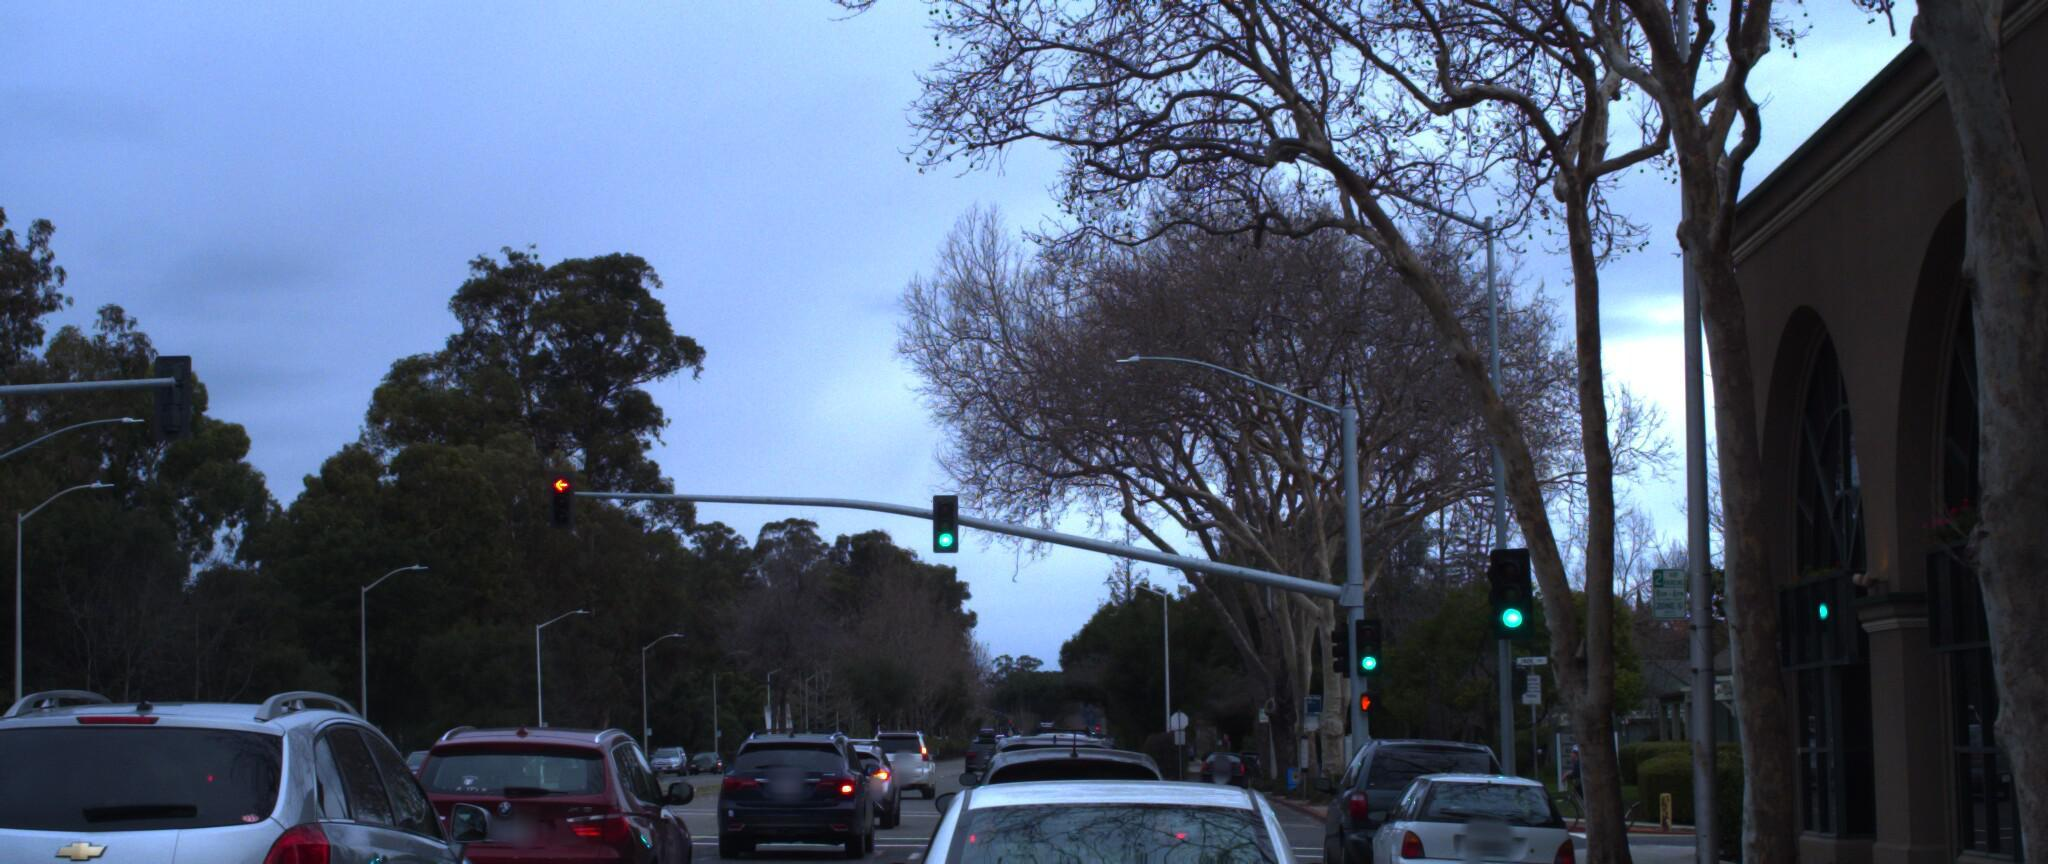car: (0, 653, 532, 864), (859, 747, 1384, 864), (371, 698, 716, 864), (914, 722, 1202, 864), (1302, 714, 1526, 864), (1341, 750, 1590, 864), (703, 713, 883, 852), (0, 737, 148, 864), (857, 720, 980, 824), (863, 719, 946, 790)
